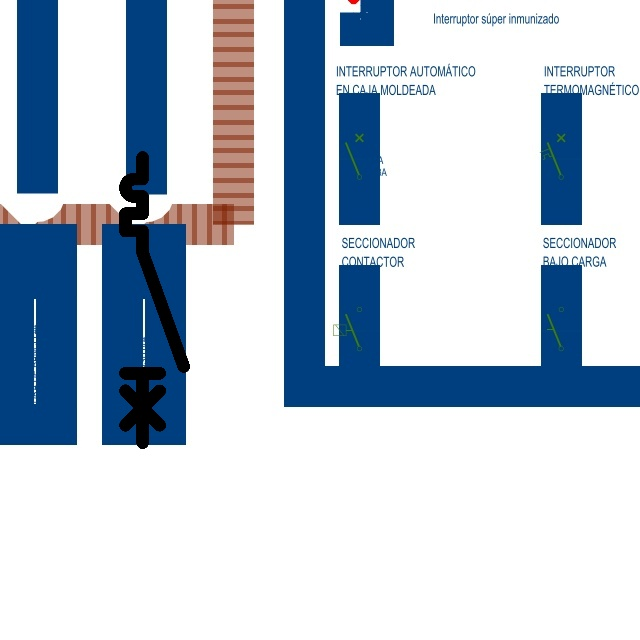interruptor_termomagnetico: (118, 150, 191, 450)
